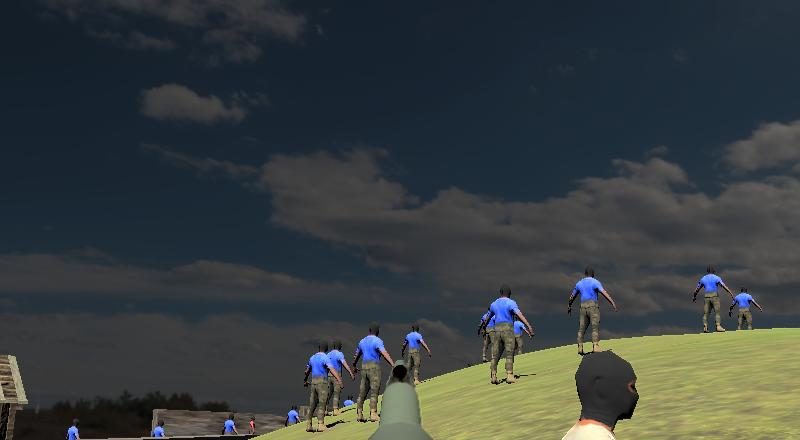Human: (480, 284, 533, 385), (567, 265, 616, 357), (352, 324, 396, 424), (303, 340, 339, 431), (491, 309, 533, 383), (693, 264, 733, 333), (322, 339, 354, 417), (401, 322, 432, 387), (729, 285, 764, 341), (151, 417, 173, 440), (221, 413, 239, 440), (66, 417, 84, 440)
